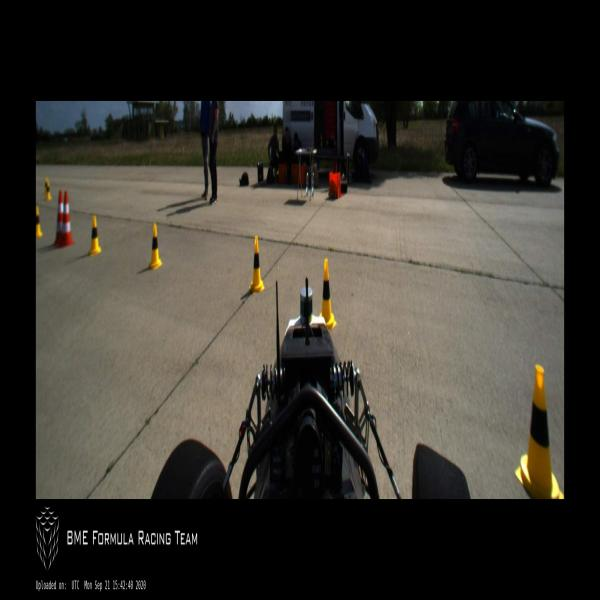large_orange_cone: (60, 191, 73, 247), (53, 190, 64, 247)
yellow_cone: (514, 364, 564, 499), (318, 258, 336, 333), (249, 235, 265, 293), (148, 222, 162, 268), (88, 216, 101, 256), (36, 206, 42, 238), (45, 180, 52, 200), (44, 177, 48, 195)
